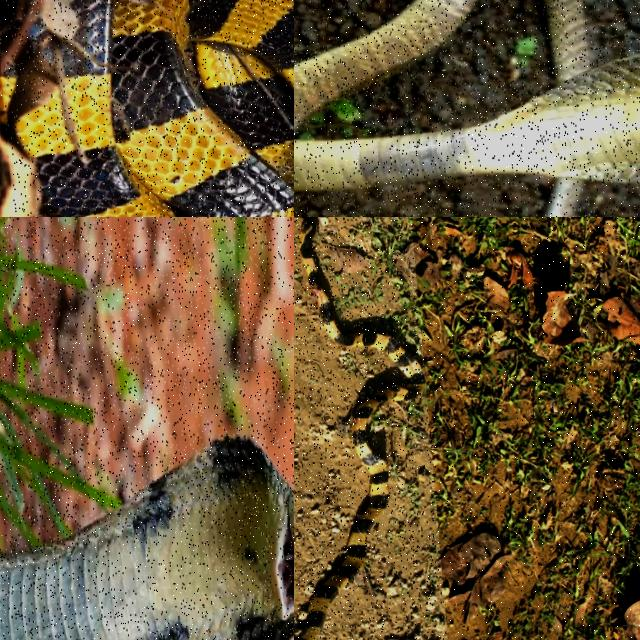Bungarus fasciatus: (12, 0, 293, 216), (294, 218, 424, 639)
Naja kaouthia: (294, 0, 639, 216)
Ophiophagus hannah: (0, 438, 293, 639)
